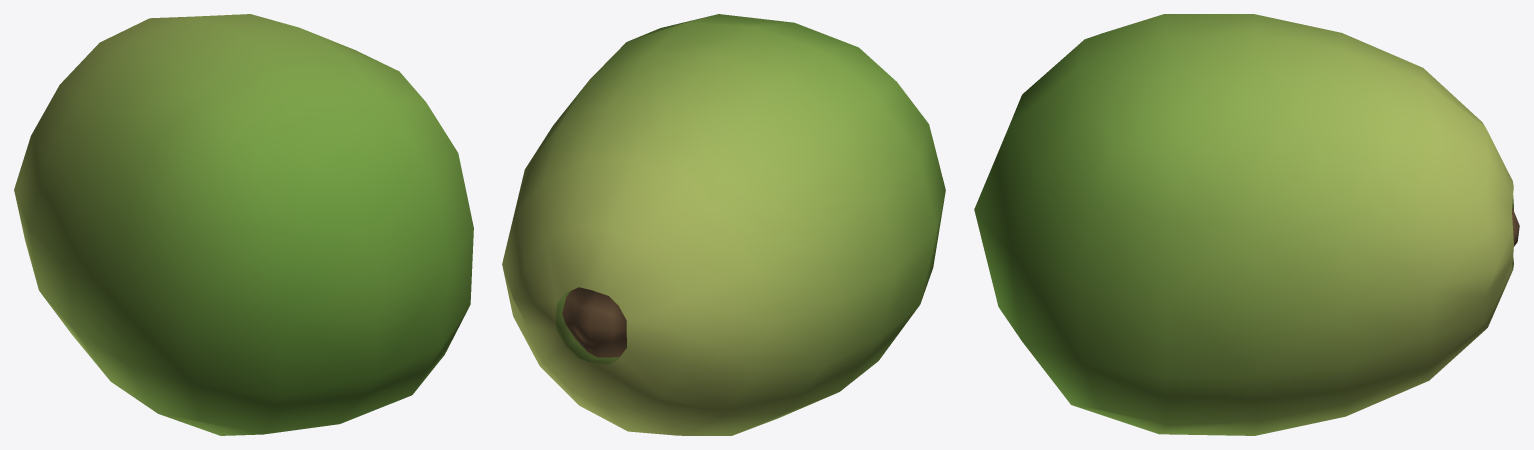
File: consumables-fruits-grape_v1.glb
The picture shows the model from 3 angles, left to right: view 1: azimuth 30°, elevation 25°; view 2: azimuth 150°, elevation 25°; view 3: azimuth 270°, elevation 25°; orthographic projection. The views are drawn at different scales.
Parts seen in each view (by area): view 1: Grape.001; view 2: Grape.001; view 3: Grape.001.
Boxes of the visible parts, <box> form: Grape.001: <box>14,14,473,435</box>; Grape.001: <box>502,14,945,435</box>; Grape.001: <box>974,14,1519,435</box>.
Size of the model in its own units: 0.025 by 0.0249 by 0.0325.
